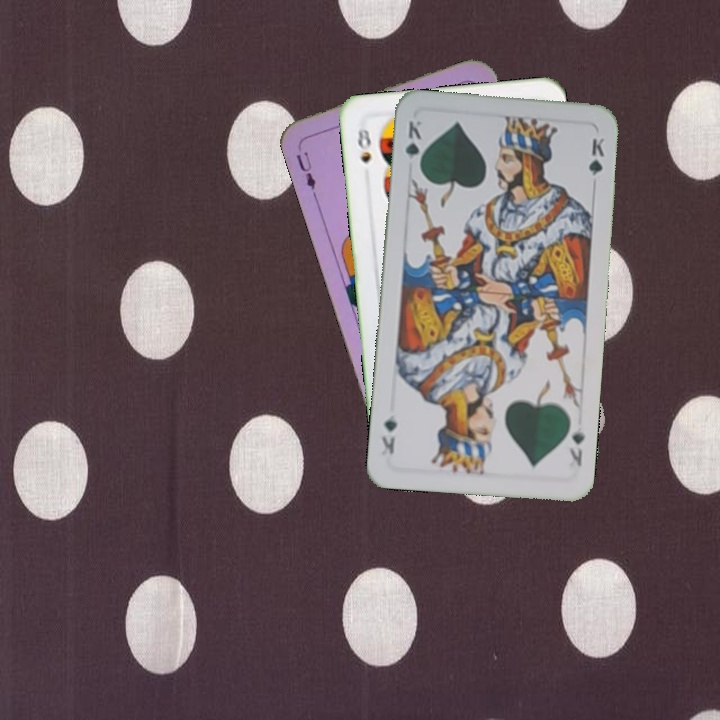EU: (292, 139, 319, 197)
GK: (401, 116, 424, 174), (565, 422, 588, 469)
S8: (353, 124, 374, 166)
